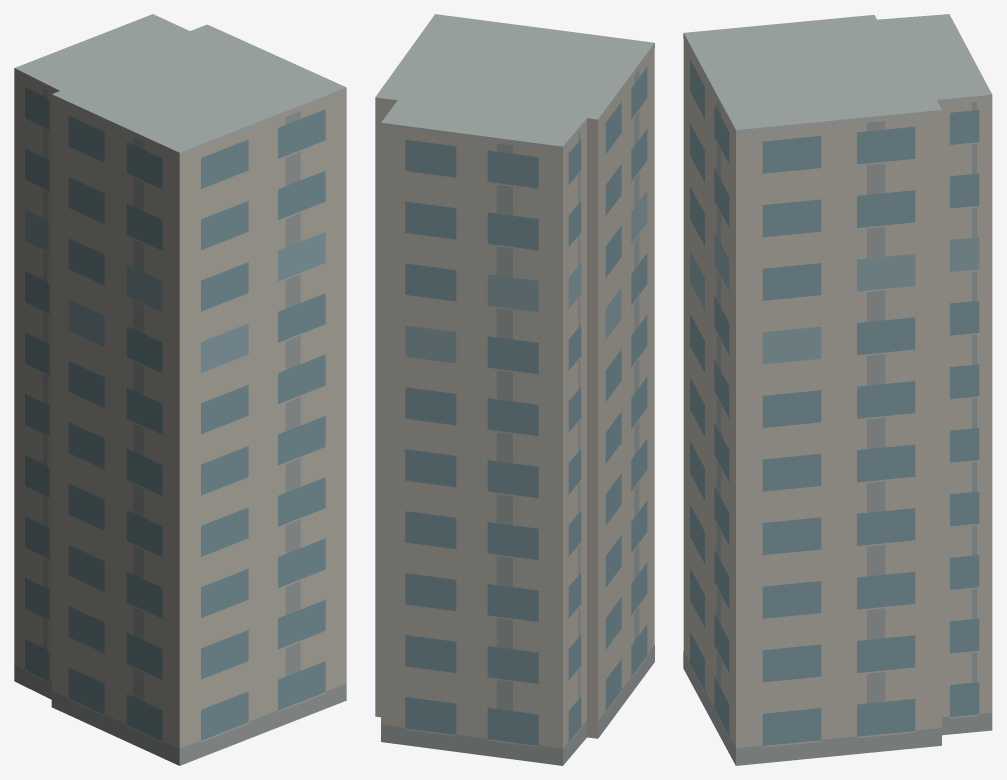
File: survey-upis-32826528.glb
The picture shows the model from 3 angles, left to right: view 1: azimuth 30°, elevation 25°; view 2: azimuth 150°, elevation 25°; view 3: azimuth 270°, elevation 25°; orthographic projection. The views are drawn at different scales.
Visible parts, largest first — view 1: survey-upis-32826528.tmp; view 2: survey-upis-32826528.tmp; view 3: survey-upis-32826528.tmp.
Part boxes in pixels (bbox=[...]): survey-upis-32826528.tmp: bbox=[14, 14, 346, 765]; survey-upis-32826528.tmp: bbox=[375, 14, 654, 765]; survey-upis-32826528.tmp: bbox=[683, 14, 992, 765].
Size of the model in its own units: 10.54 by 26.9 by 11.85.
